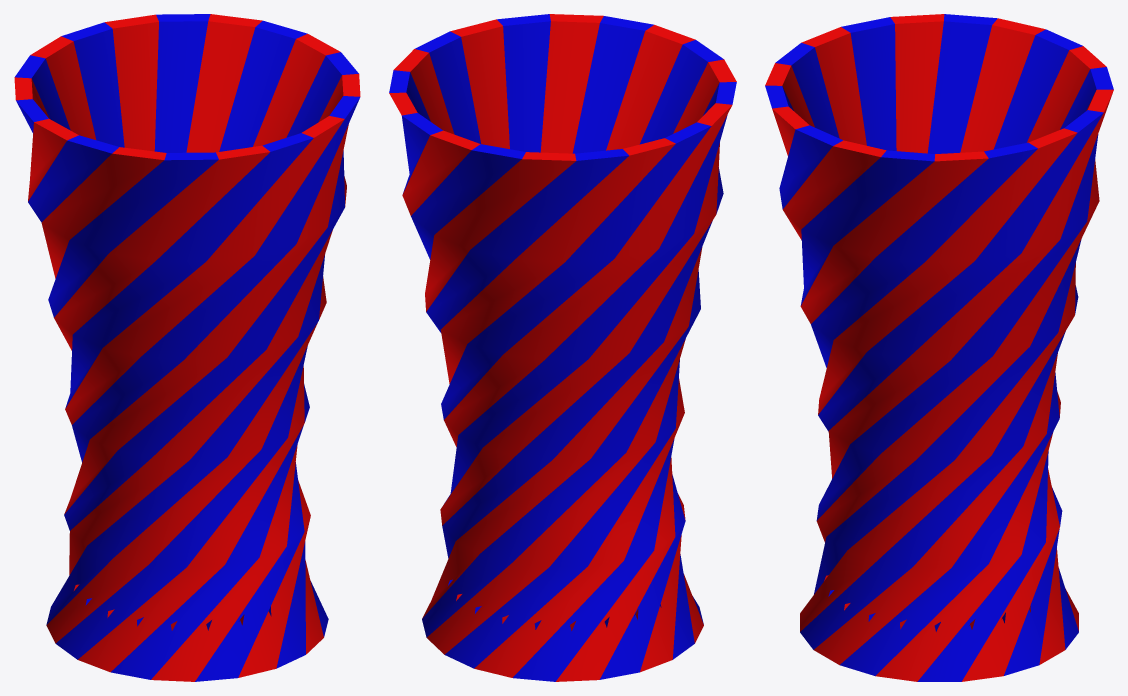
File: Bend_cup.fbx
The picture shows the model from 3 angles, left to right: view 1: azimuth 30°, elevation 25°; view 2: azimuth 150°, elevation 25°; view 3: azimuth 270°, elevation 25°; orthographic projection.
Visible parts, largest first — view 1: pCylinder1; view 2: pCylinder1; view 3: pCylinder1.
Part boxes in pixels (box(x1,y1,x2,y2)): pCylinder1: box(14, 14, 360, 681); pCylinder1: box(389, 14, 736, 681); pCylinder1: box(765, 14, 1113, 681).
Bounding box in the file's own units: 1.98 × 3.35 × 1.98.
